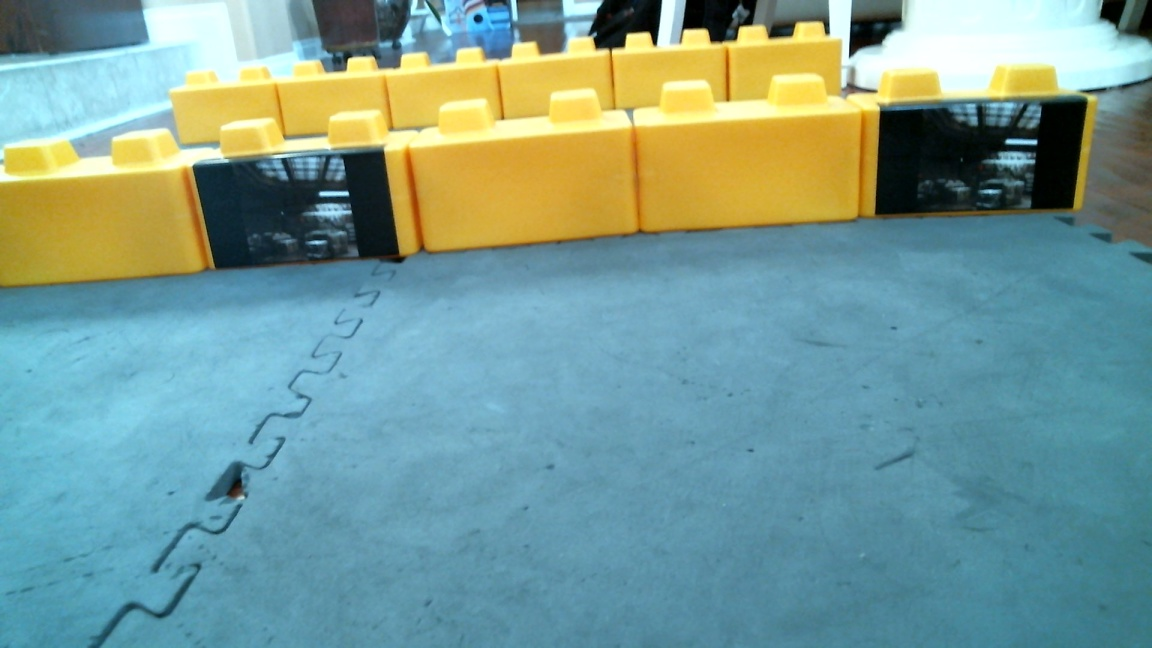skystone: (188, 118, 416, 271), (865, 78, 1085, 215)
stone: (413, 97, 644, 244), (636, 76, 860, 221), (1, 147, 208, 276)
